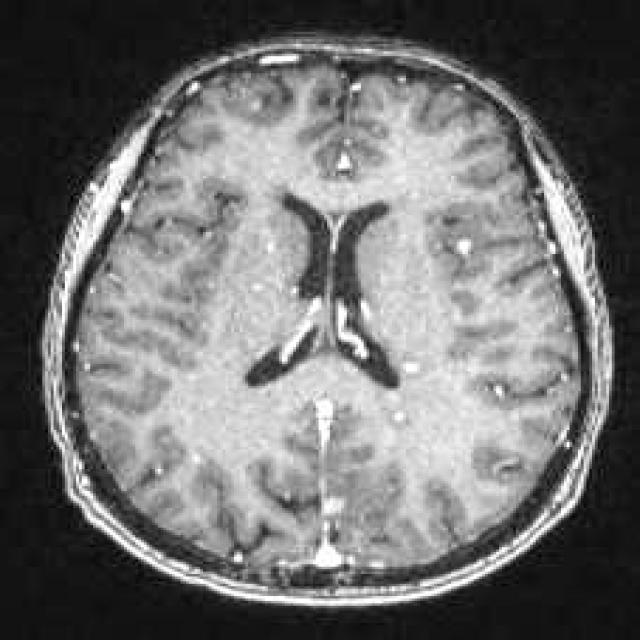no-tumor: (165, 130, 508, 460)
